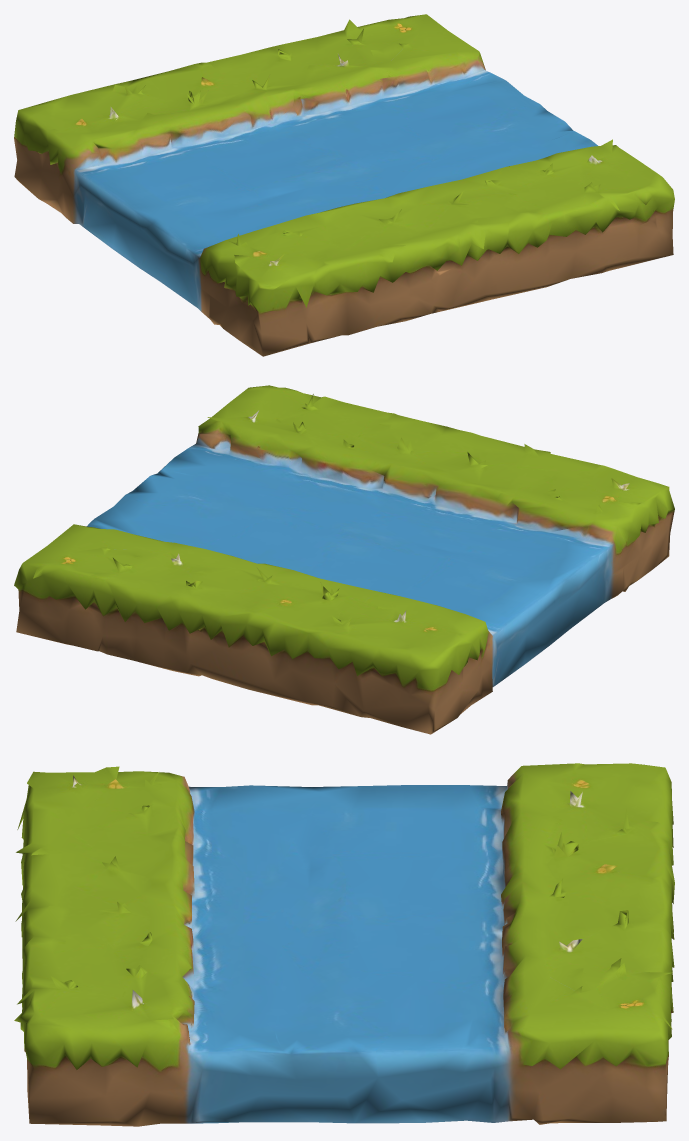
File: river_straight.glb
The picture shows the model from 3 angles, top to bottom: view 1: azimuth 30°, elevation 25°; view 2: azimuth 150°, elevation 25°; view 3: azimuth 270°, elevation 25°; orthographic projection. The views are drawn at different scales.
Visible parts, largest first — view 1: tripo_node_f4063387-e580-4b8f-9c18-c3b1937aaec3; view 2: tripo_node_f4063387-e580-4b8f-9c18-c3b1937aaec3; view 3: tripo_node_f4063387-e580-4b8f-9c18-c3b1937aaec3.
Part boxes in pixels (x1,y1,x2,y2): tripo_node_f4063387-e580-4b8f-9c18-c3b1937aaec3: (14, 14, 674, 356); tripo_node_f4063387-e580-4b8f-9c18-c3b1937aaec3: (14, 385, 674, 734); tripo_node_f4063387-e580-4b8f-9c18-c3b1937aaec3: (14, 763, 674, 1126).
Size of the model in its own units: 0.9862 by 0.1913 by 1.
1 material, 1 textured.
